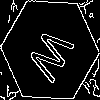W: (25, 25, 83, 90)
